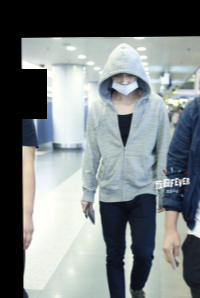mask_weared_incorrect: (110, 71, 139, 96)
